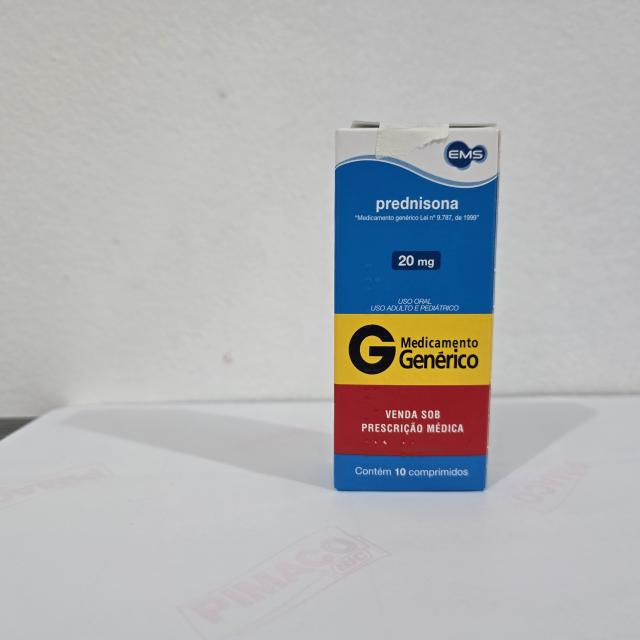prednisona: (331, 117, 503, 496)
